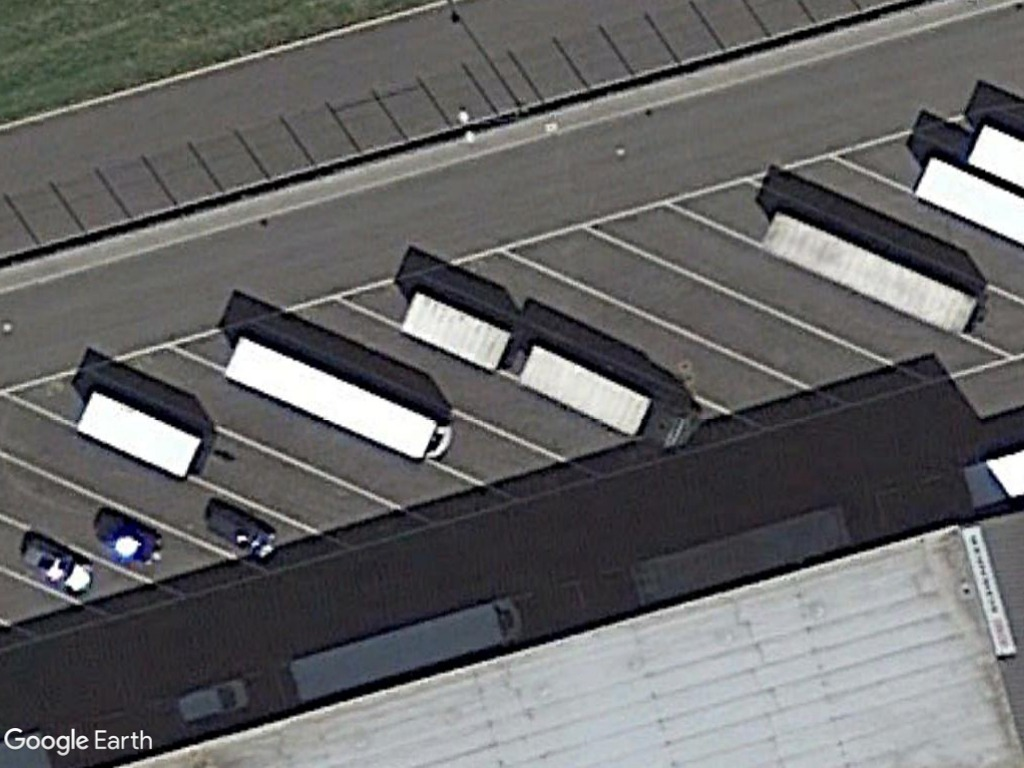longvehicle: (217, 327, 454, 465), (750, 207, 987, 340), (279, 597, 536, 712), (622, 502, 866, 612), (73, 381, 209, 481), (511, 341, 655, 434), (395, 285, 517, 373)
van: (173, 678, 256, 727)
